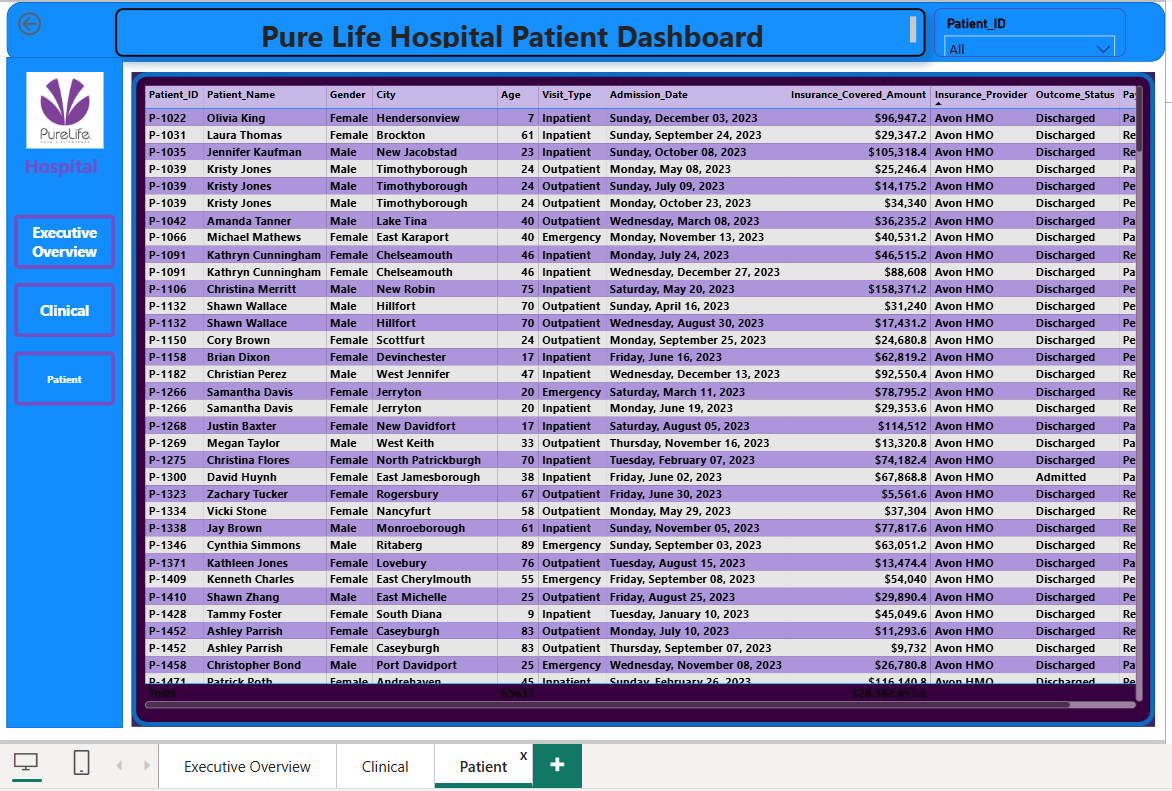

This screenshot's page, from the dashboard's own definition file:
{"tool":"powerbi","page":{"name":"Patient","canvas":[1500,950],"ordinal":2},"visuals":[{"type":"shape","box":[9.6,0,1490.7,77.2],"z":0},{"type":"textbox","box":[149.6,8,1042,62.7],"z":1000},{"type":"shape","box":[9.6,70.8,149.6,863.5],"z":2000},{"type":"shape","box":[170.3,90.7,1316.4,842.1],"z":3000},{"type":"group","id":"g1","title":"Group 2","box":[19.1,90.7,130.5,429.8],"z":4000},{"type":"tableEx","fields":{"Values":["Visit_Fact.Patient_ID","Dm_Patient.Patient_Name","Dm_Patient.Gender","Dm_Patient.City","Sum(Dm_Patient.Age)","Visit_Fact.Visit_Type","Visit_Fact.Admission_Date","Sum(Visit_Fact.Insurance_Covered_Amount)","Visit_Fact.Insurance_Provider","Visit_Fact.Outcome_Status","Visit_Fact.Payment_Status"]},"box":[181.7,102.9,1294.5,810.5],"z":5000},{"type":"slicer","fields":{"Values":["Dm_Patient.Patient_ID"]},"box":[1203.4,8,246.7,62.1],"z":6000},{"type":"actionButton","box":[19.3,8,100,40],"z":7000},{"type":"image","box":[19.1,90.7,130.5,98.7],"z":18000,"group":"g1"},{"type":"textbox","box":[27.1,191,114.6,46.2],"z":19000,"group":"g1"},{"type":"pageNavigator","box":[19.1,273.8,130.5,246.7],"z":21000,"group":"g1"}]}

Visuals, with their boxes on the page's 1500x950 design canvas (x1, y1, x2, y2). These are canvas units, not pixel positions in the 1172x791 screenshot, which may show the page scaled, cropped or inside an application window:
shape: {"left": 10, "top": 0, "right": 1500, "bottom": 77}
textbox: {"left": 150, "top": 8, "right": 1192, "bottom": 71}
shape: {"left": 10, "top": 71, "right": 159, "bottom": 934}
shape: {"left": 170, "top": 91, "right": 1487, "bottom": 933}
"Group 2" group: {"left": 19, "top": 91, "right": 150, "bottom": 520}
tableEx - Visit_Fact.Patient_ID x Dm_Patient.Patient_Name: {"left": 182, "top": 103, "right": 1476, "bottom": 913}
slicer - Dm_Patient.Patient_ID: {"left": 1203, "top": 8, "right": 1450, "bottom": 70}
actionButton: {"left": 19, "top": 8, "right": 119, "bottom": 48}
image: {"left": 19, "top": 91, "right": 150, "bottom": 189}
textbox: {"left": 27, "top": 191, "right": 142, "bottom": 237}
pageNavigator: {"left": 19, "top": 274, "right": 150, "bottom": 520}
